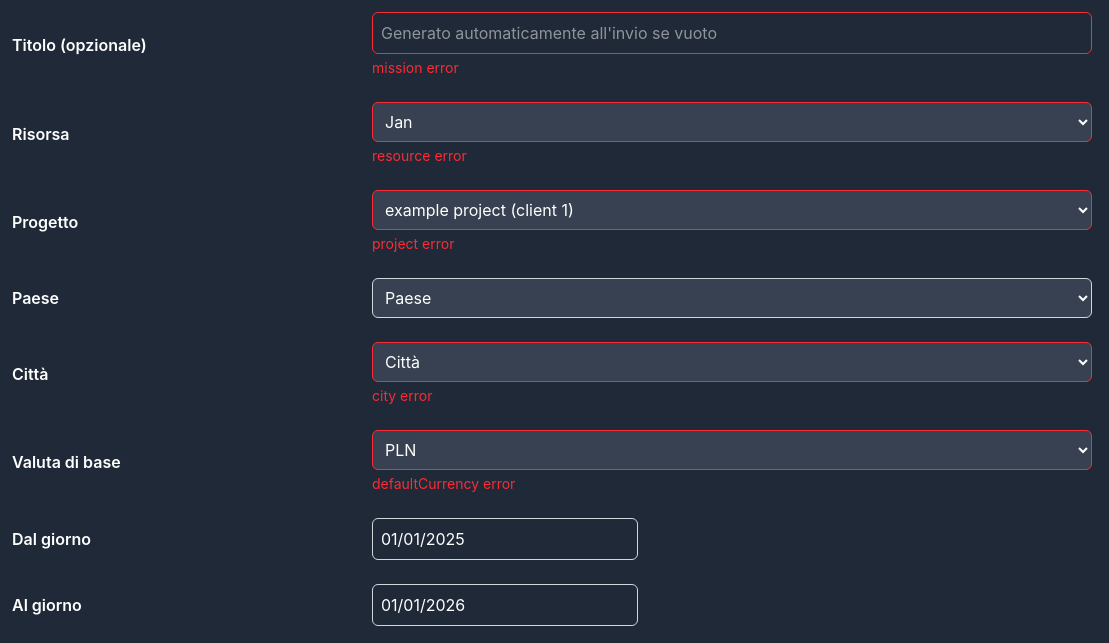
Test: CreateMissionFrom › clears errors
This screenshot has width=1109, height=643.
Type "changed title" into the field with test id "title-input".
click(732, 33); type("changed title")  # box [372,12,1092,54]
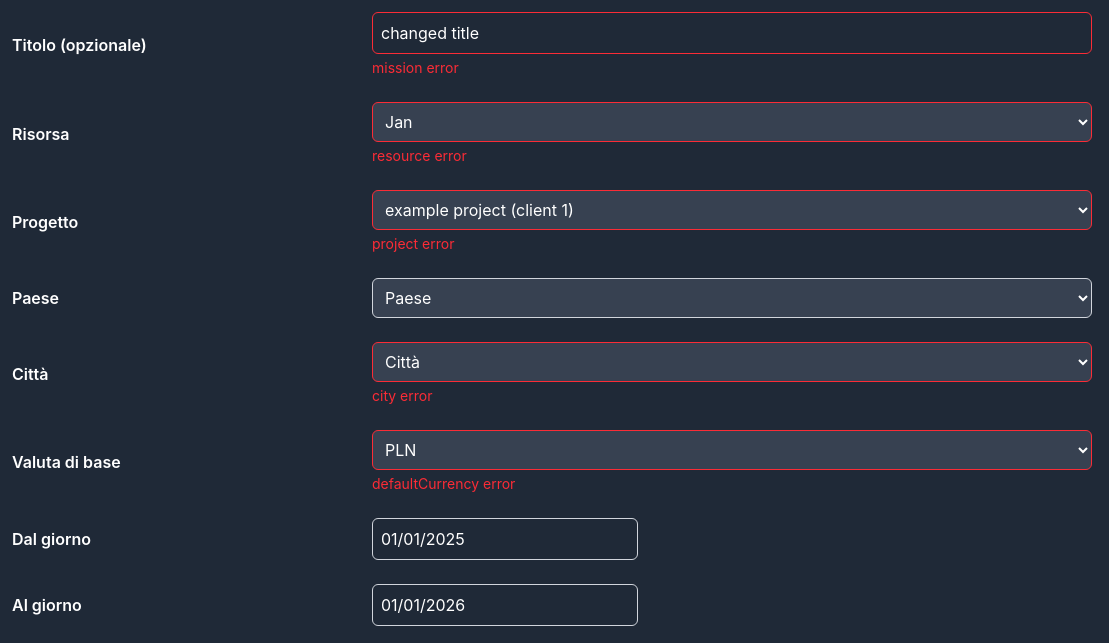
Select "Anna" in the dropdown with test id "first-name-select" at x=732, y=122, box [372,102,1092,142]
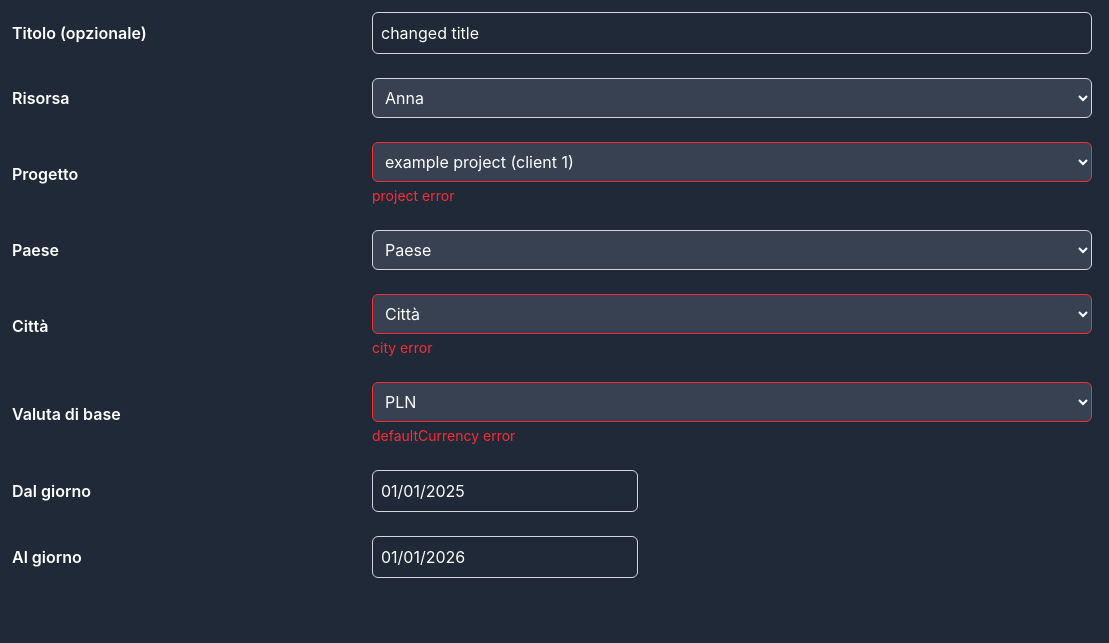
Select "another project (client 2)" in the dropdown with test id "project-select" at x=732, y=162, box [372,142,1092,182]
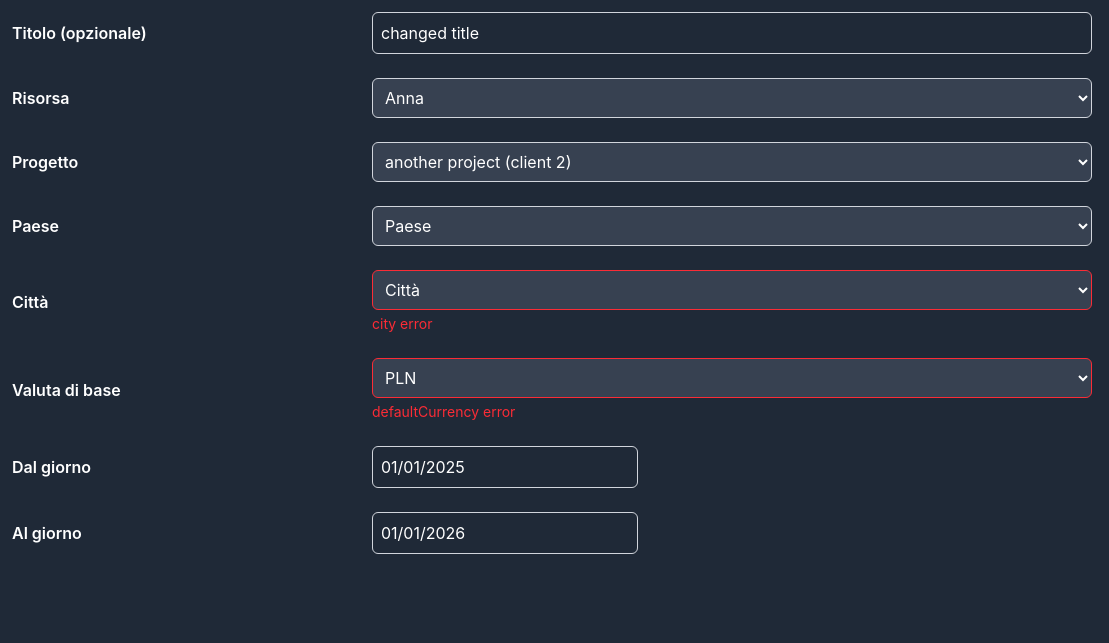
Select "Italy" in the dropdown with test id "country-select" at x=732, y=226, box [372,206,1092,246]
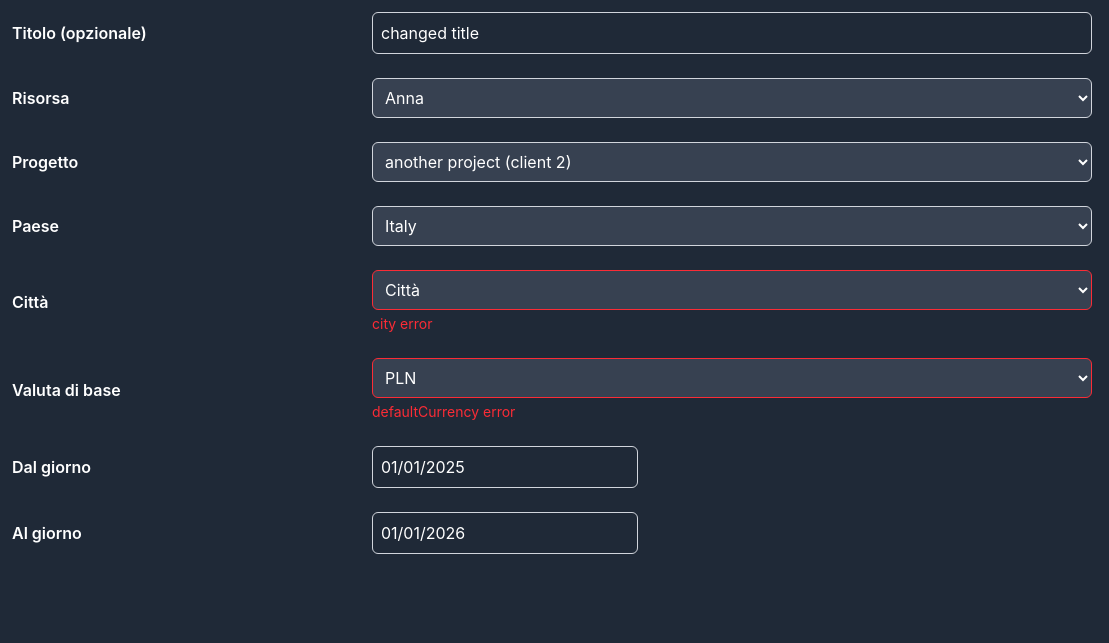
Select "Venice" in the dropdown with test id "city-select" at x=732, y=290, box [372,270,1092,310]
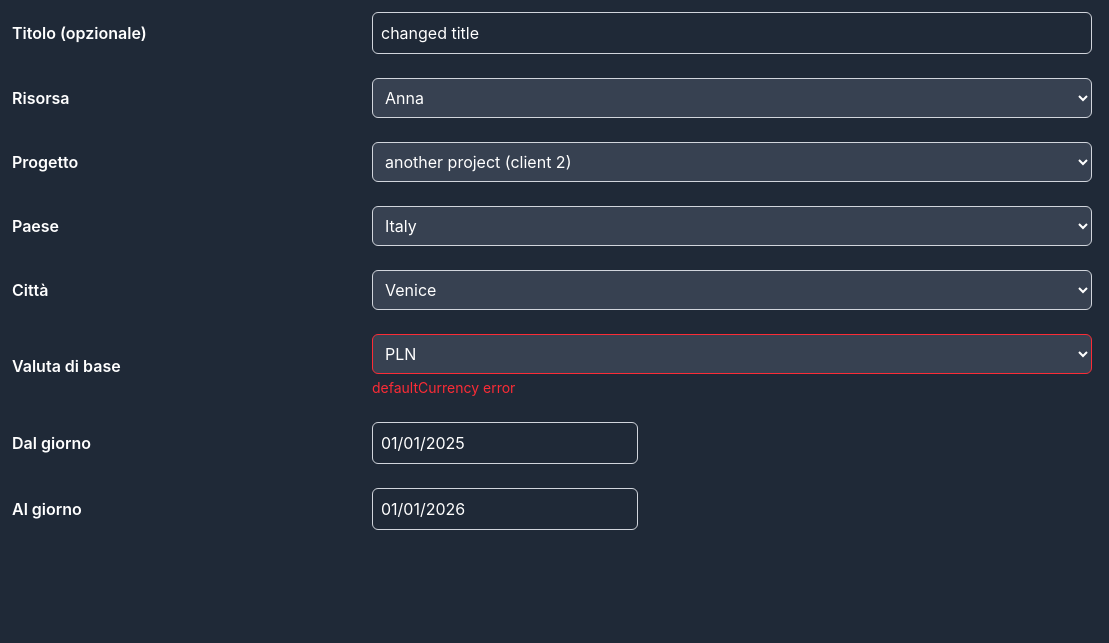
Select "EUR" in the dropdown with test id "currency-select" at x=732, y=354, box [372,334,1092,374]
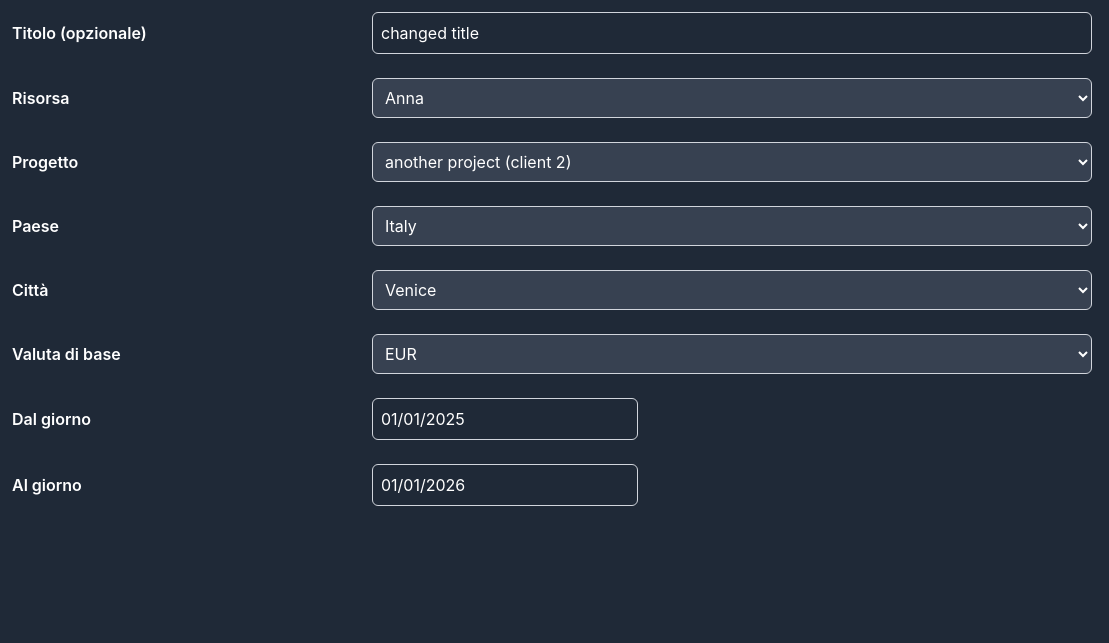
Expected: the text "mission error" is not shown
Expected: the text "defaultCurrency error" is gone
